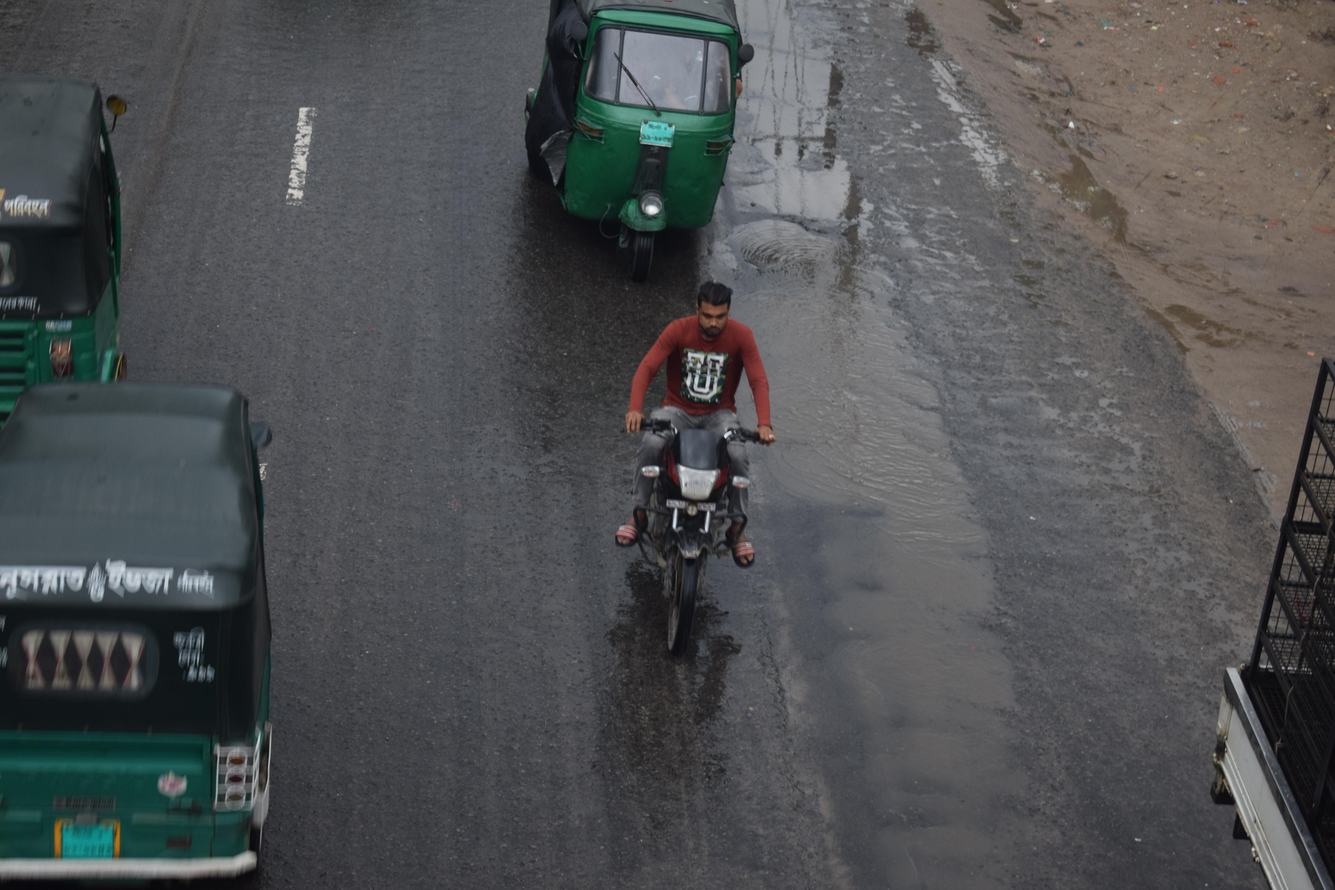Bike: (569, 239, 840, 708)
